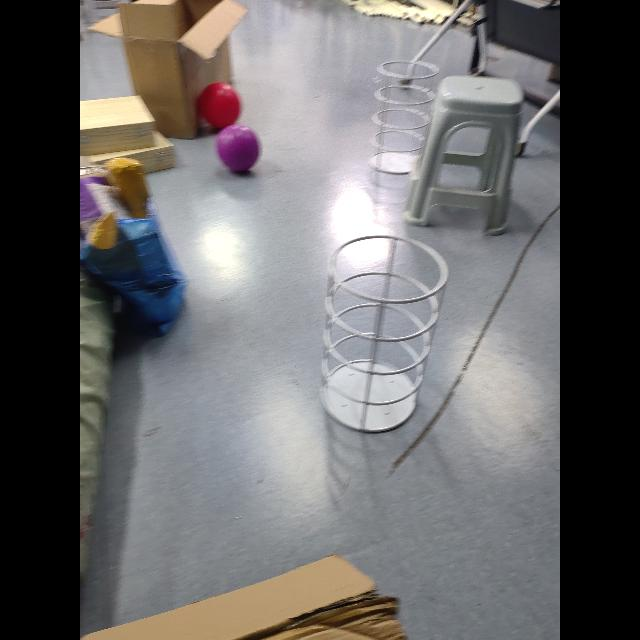S: (322, 231, 451, 434)
